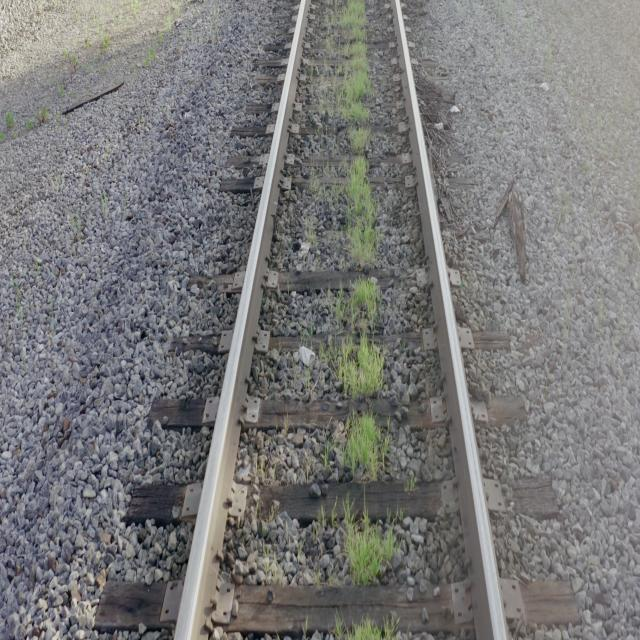Plant: (339, 0, 379, 267), (335, 280, 384, 398), (345, 509, 396, 587), (344, 411, 389, 480), (350, 622, 396, 638), (369, 553, 370, 558)
